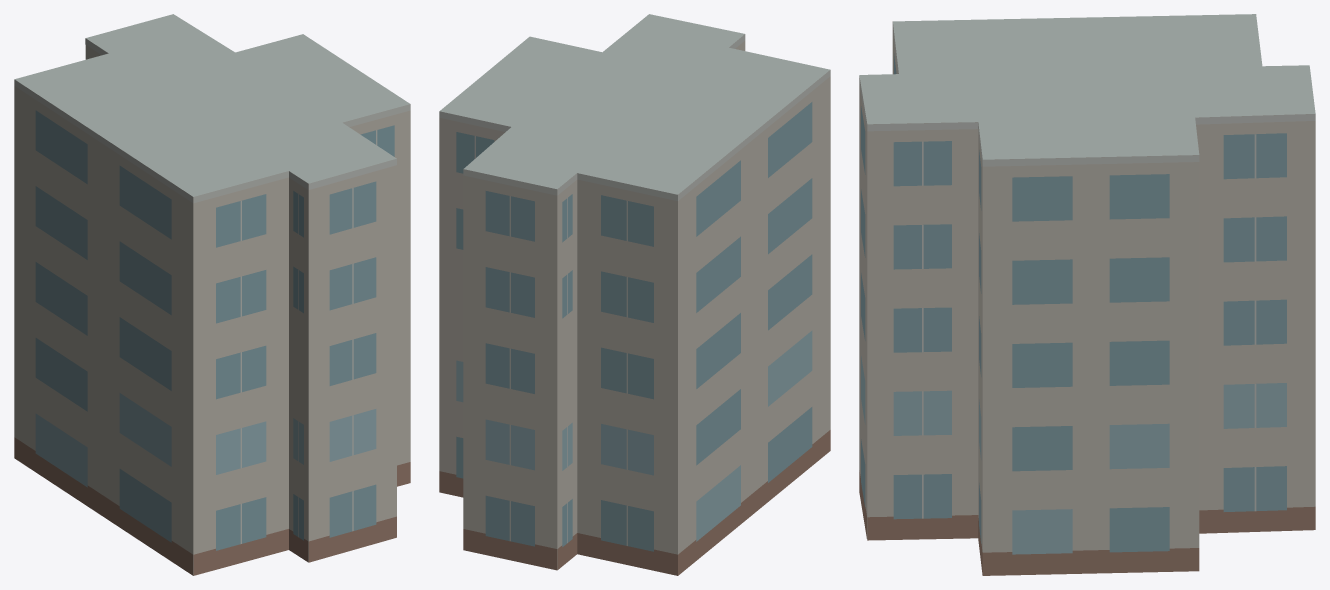
The model's file is survey-upis-32910096.glb.
3 views of the same model, side by side, from view 1: azimuth 30°, elevation 25°; view 2: azimuth 150°, elevation 25°; view 3: azimuth 270°, elevation 25° (orthographic). The views are drawn at different scales.
Visible parts, largest first — view 1: survey-upis-32910096.tmp; view 2: survey-upis-32910096.tmp; view 3: survey-upis-32910096.tmp.
Boxes of the visible parts, x1,y1,x2,y2 form: survey-upis-32910096.tmp: (14, 14, 410, 575); survey-upis-32910096.tmp: (439, 14, 830, 575); survey-upis-32910096.tmp: (859, 14, 1315, 575).
Bounding box in the file's own units: 10.82 × 14.4 × 14.32.
